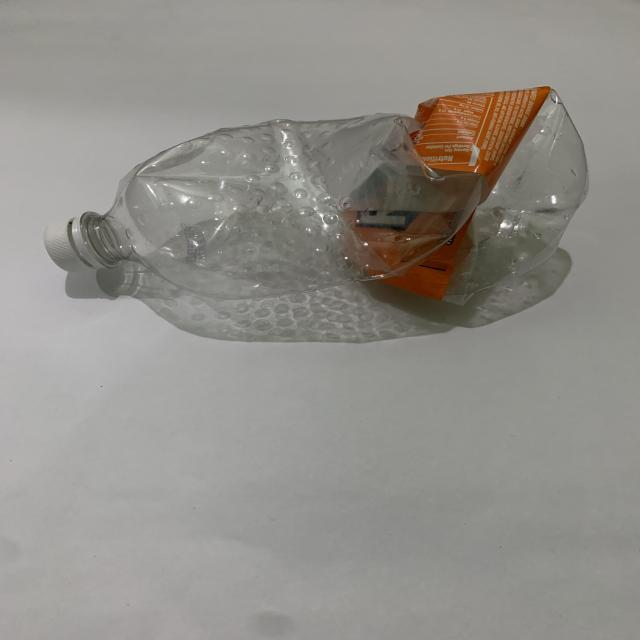bottle: (40, 80, 593, 312)
